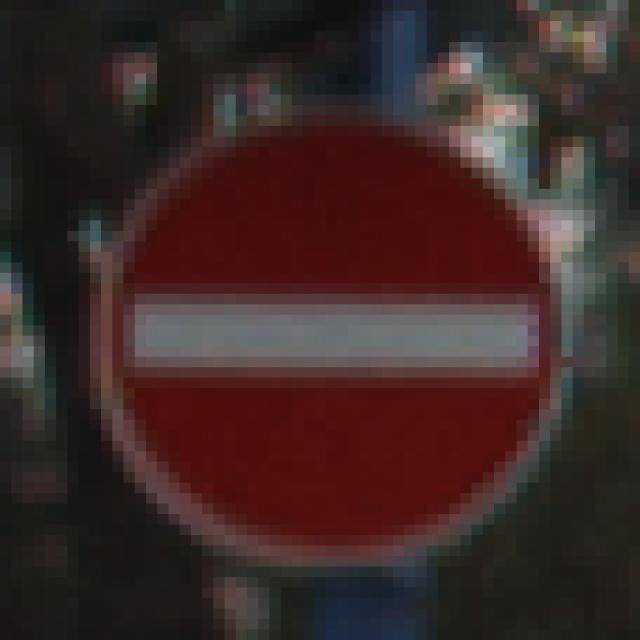No Entry: (57, 64, 574, 588)
